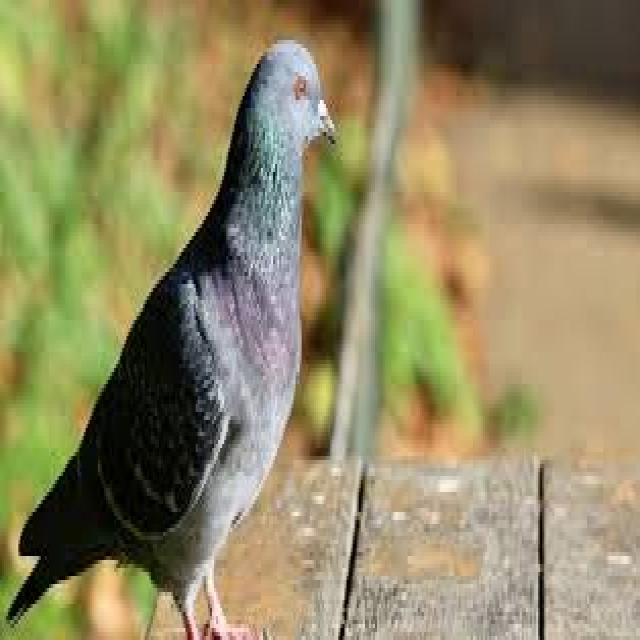pigeon: (12, 12, 328, 640)
